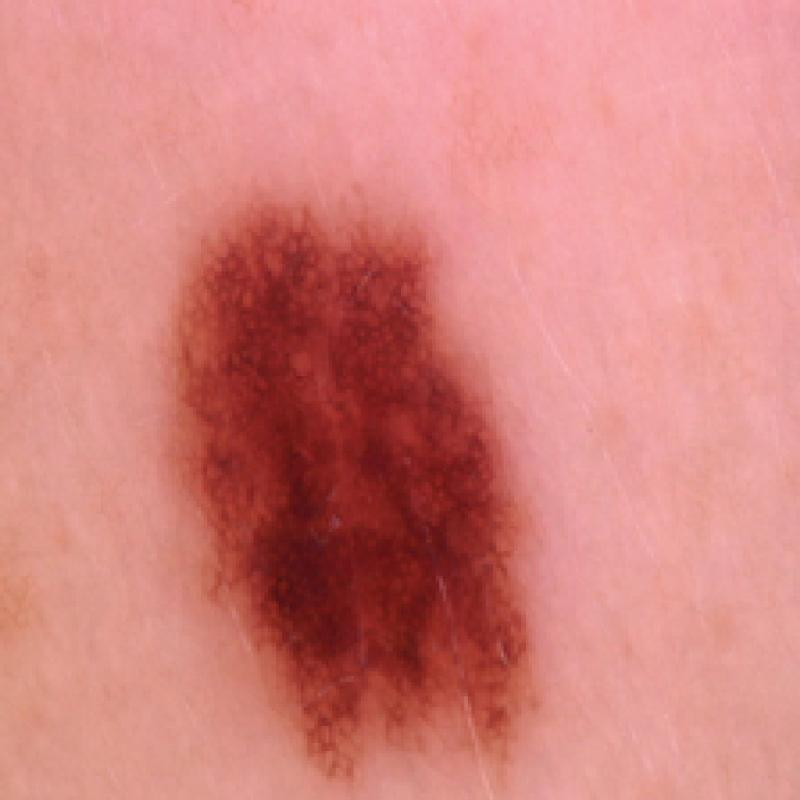benign: (133, 182, 620, 794)
